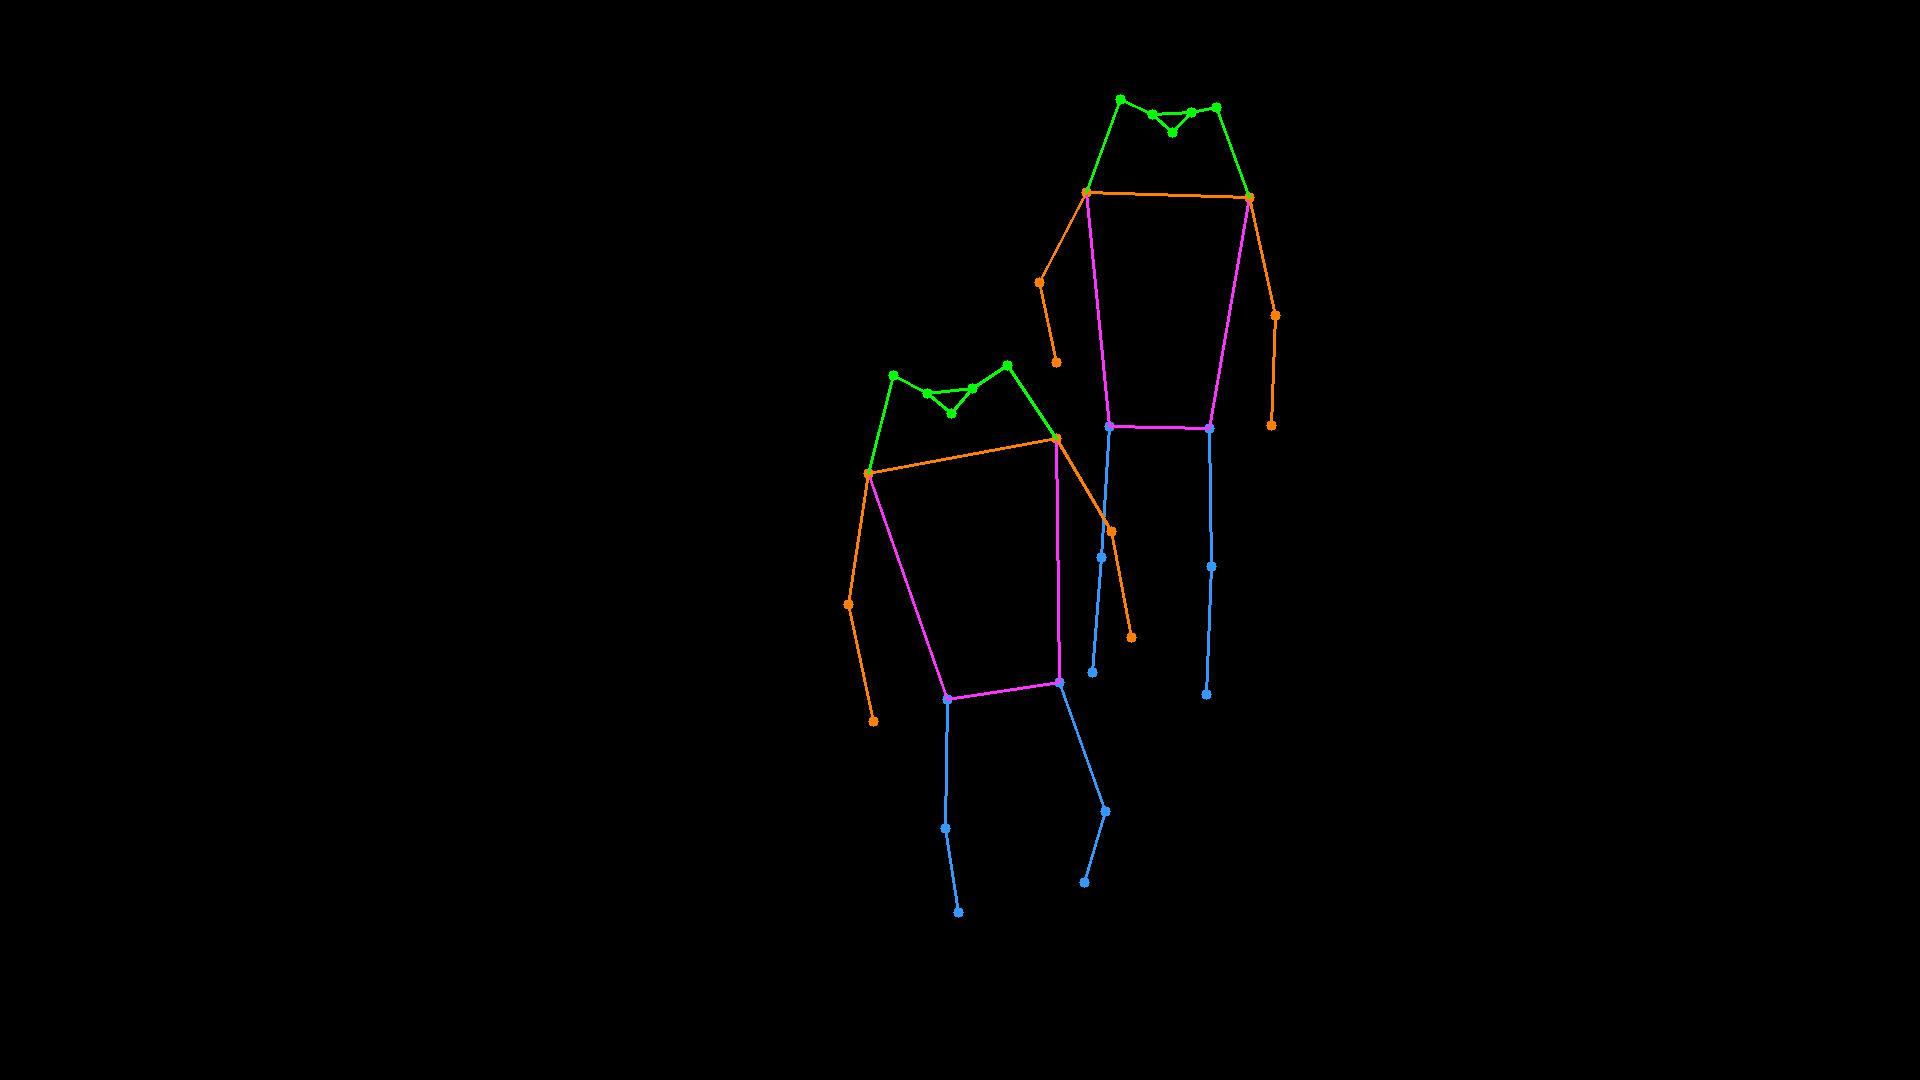normal: (725, 58, 1367, 980)
